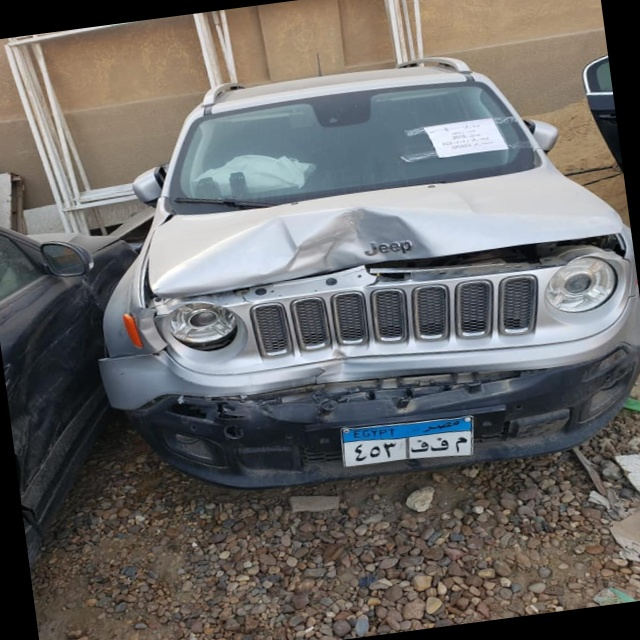License Plate: (334, 409, 480, 475)
